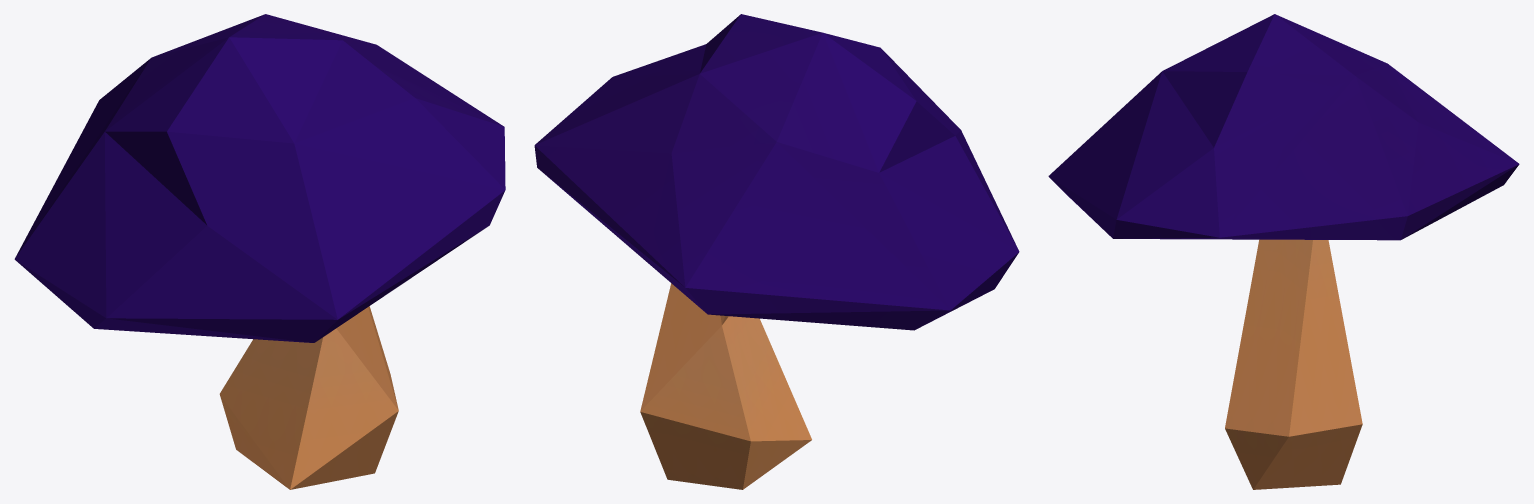
The model's file is Mushroom1.fbx.
The picture shows the model from 3 angles, left to right: view 1: azimuth 30°, elevation 25°; view 2: azimuth 150°, elevation 25°; view 3: azimuth 270°, elevation 25°; orthographic projection. The views are drawn at different scales.
Visible parts, largest first — view 1: Icosphere; view 2: Icosphere; view 3: Icosphere.
Boxes of the visible parts, x1,y1,x2,y2 form: Icosphere: (14, 14, 505, 489); Icosphere: (534, 14, 1019, 489); Icosphere: (1048, 14, 1519, 489).
Size of the model in its own units: 1.81 by 1.91 by 1.95.
